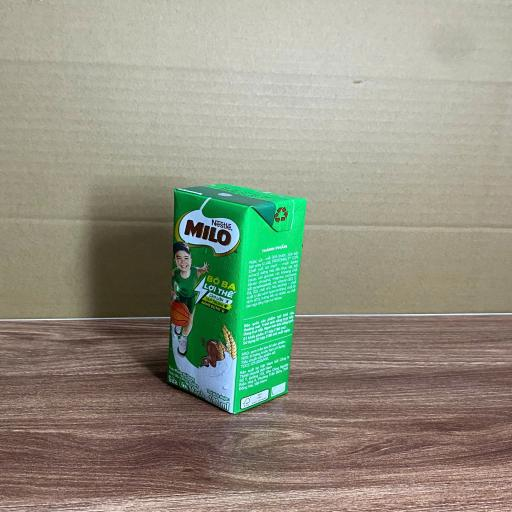milo: (166, 180, 307, 414)
